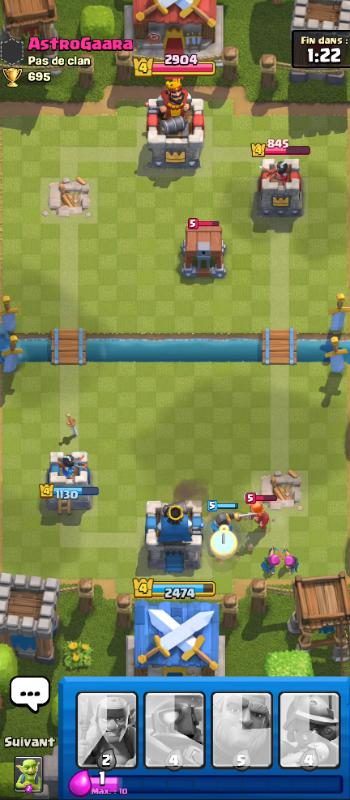archere: (277, 544, 300, 580), (261, 544, 282, 579)
chevalier: (210, 511, 245, 535)
valkyrie: (247, 499, 272, 534)
